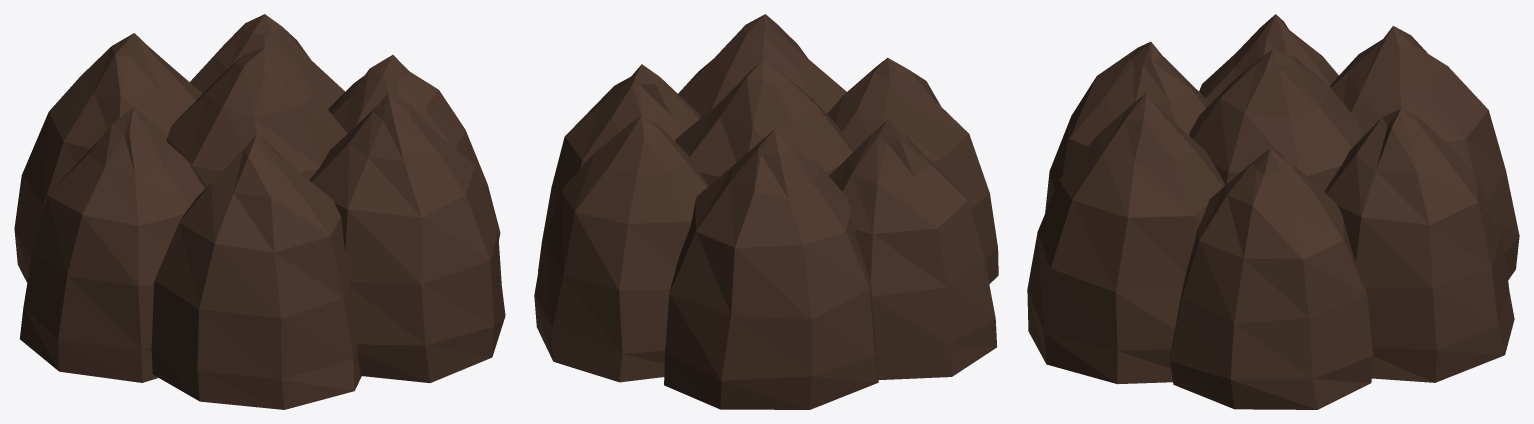
File: choco.glb
3 renders of one model, left to right at view 1: azimuth 30°, elevation 25°; view 2: azimuth 150°, elevation 25°; view 3: azimuth 270°, elevation 25°, orthographic. The views are drawn at different scales.
Bounding box in the file's own units: 2.2 × 1.23 × 2.12.
